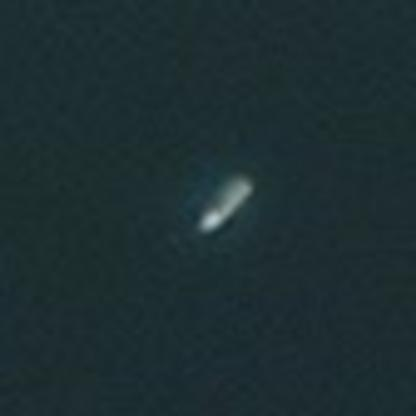ship: (186, 164, 265, 243)
